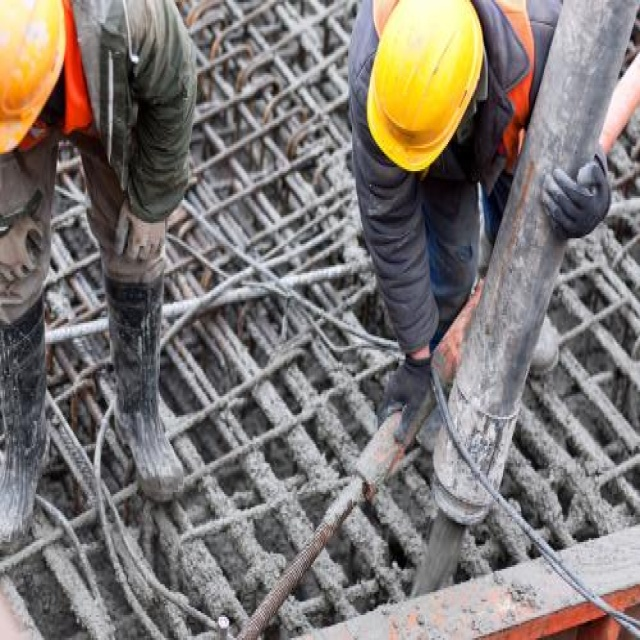Helmet: (365, 1, 488, 176), (1, 1, 71, 157)
